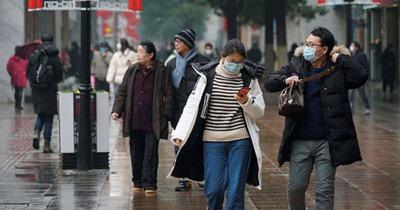with_mask: (303, 39, 320, 64), (224, 57, 244, 75), (204, 46, 212, 55), (99, 44, 107, 53), (116, 40, 122, 51), (349, 43, 355, 53)
without_mask: (136, 48, 147, 65), (173, 38, 185, 53)
